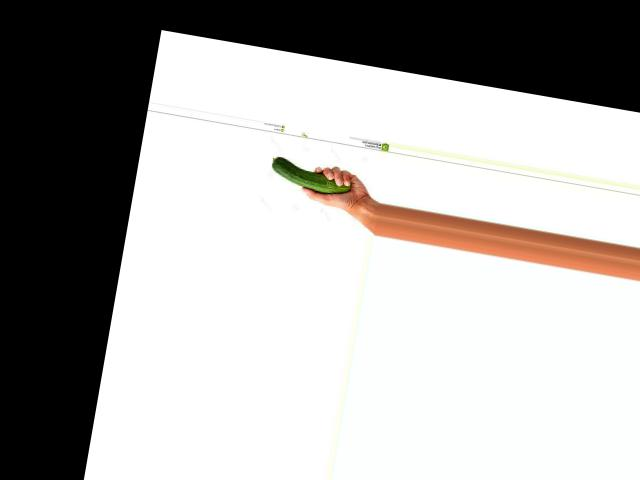cucumber: (268, 155, 353, 196)
